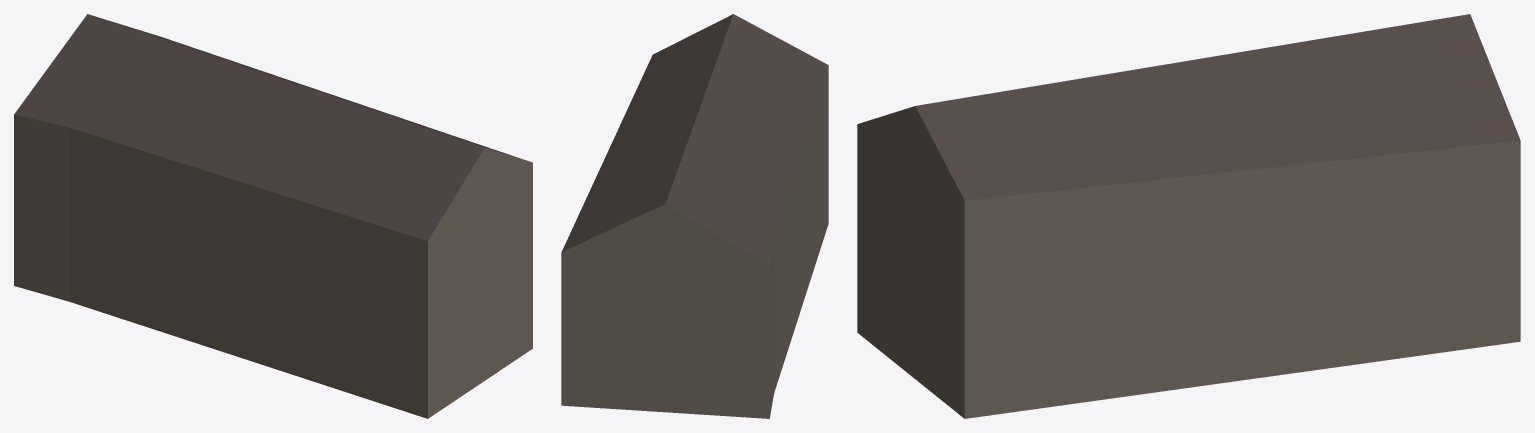
3 renders of one model, left to right at view 1: azimuth 30°, elevation 25°; view 2: azimuth 150°, elevation 25°; view 3: azimuth 270°, elevation 25°, orthographic. The views are drawn at different scales.
Visible parts, largest first — view 1: HP-w1198645082; view 2: HP-w1198645082; view 3: HP-w1198645082.
Part boxes in pixels (x1,y1,x2,y2): HP-w1198645082: [14, 14, 532, 418]; HP-w1198645082: [561, 14, 828, 418]; HP-w1198645082: [857, 14, 1520, 418].
Bounding box in the file's own units: 11.9 × 8.16 × 17.94.
